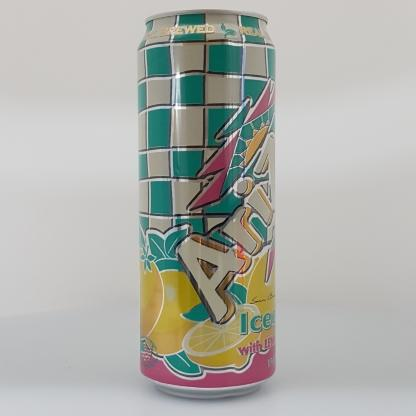-------------------680ML: (137, 8, 276, 399)
